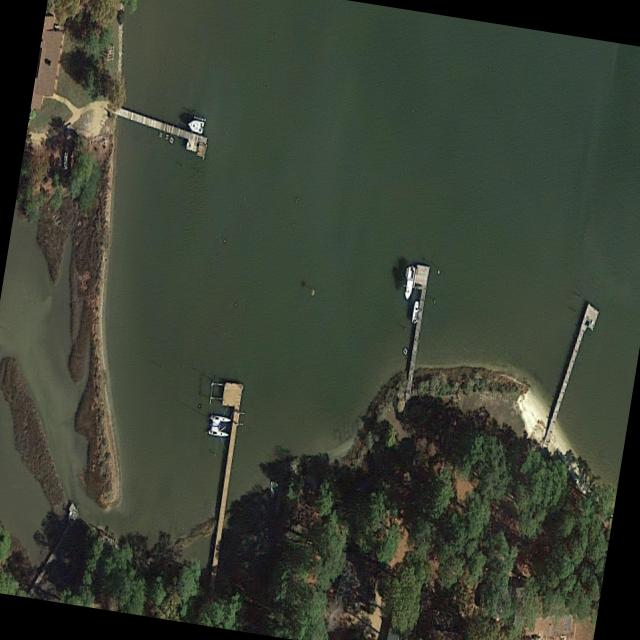ship: (401, 267, 416, 303), (207, 416, 230, 438), (185, 119, 205, 135), (410, 299, 419, 324)
